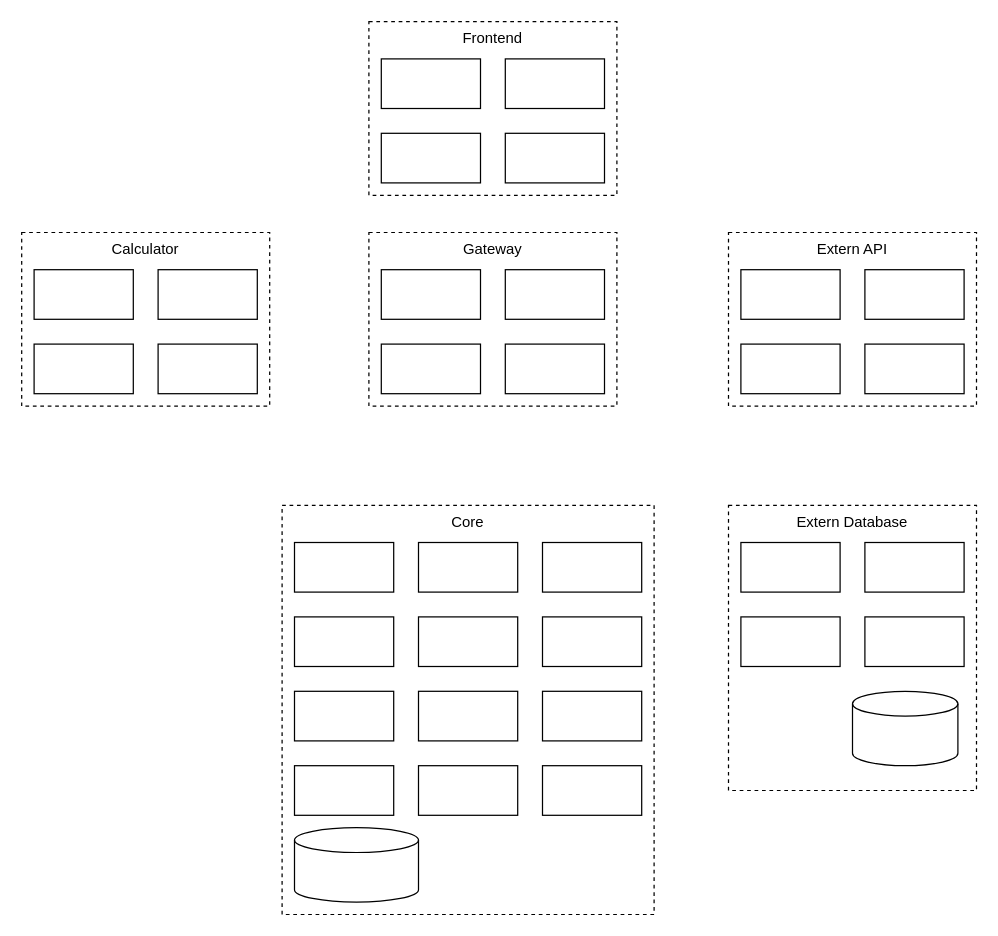
Image size: 998x936. Some labels were removed from this diagram. The centre of each missing label's shape, as x and y in pixels:
"dndatabase_heros" belongs at point 355,864.
"dndatabase_stats" belongs at point 904,728.
